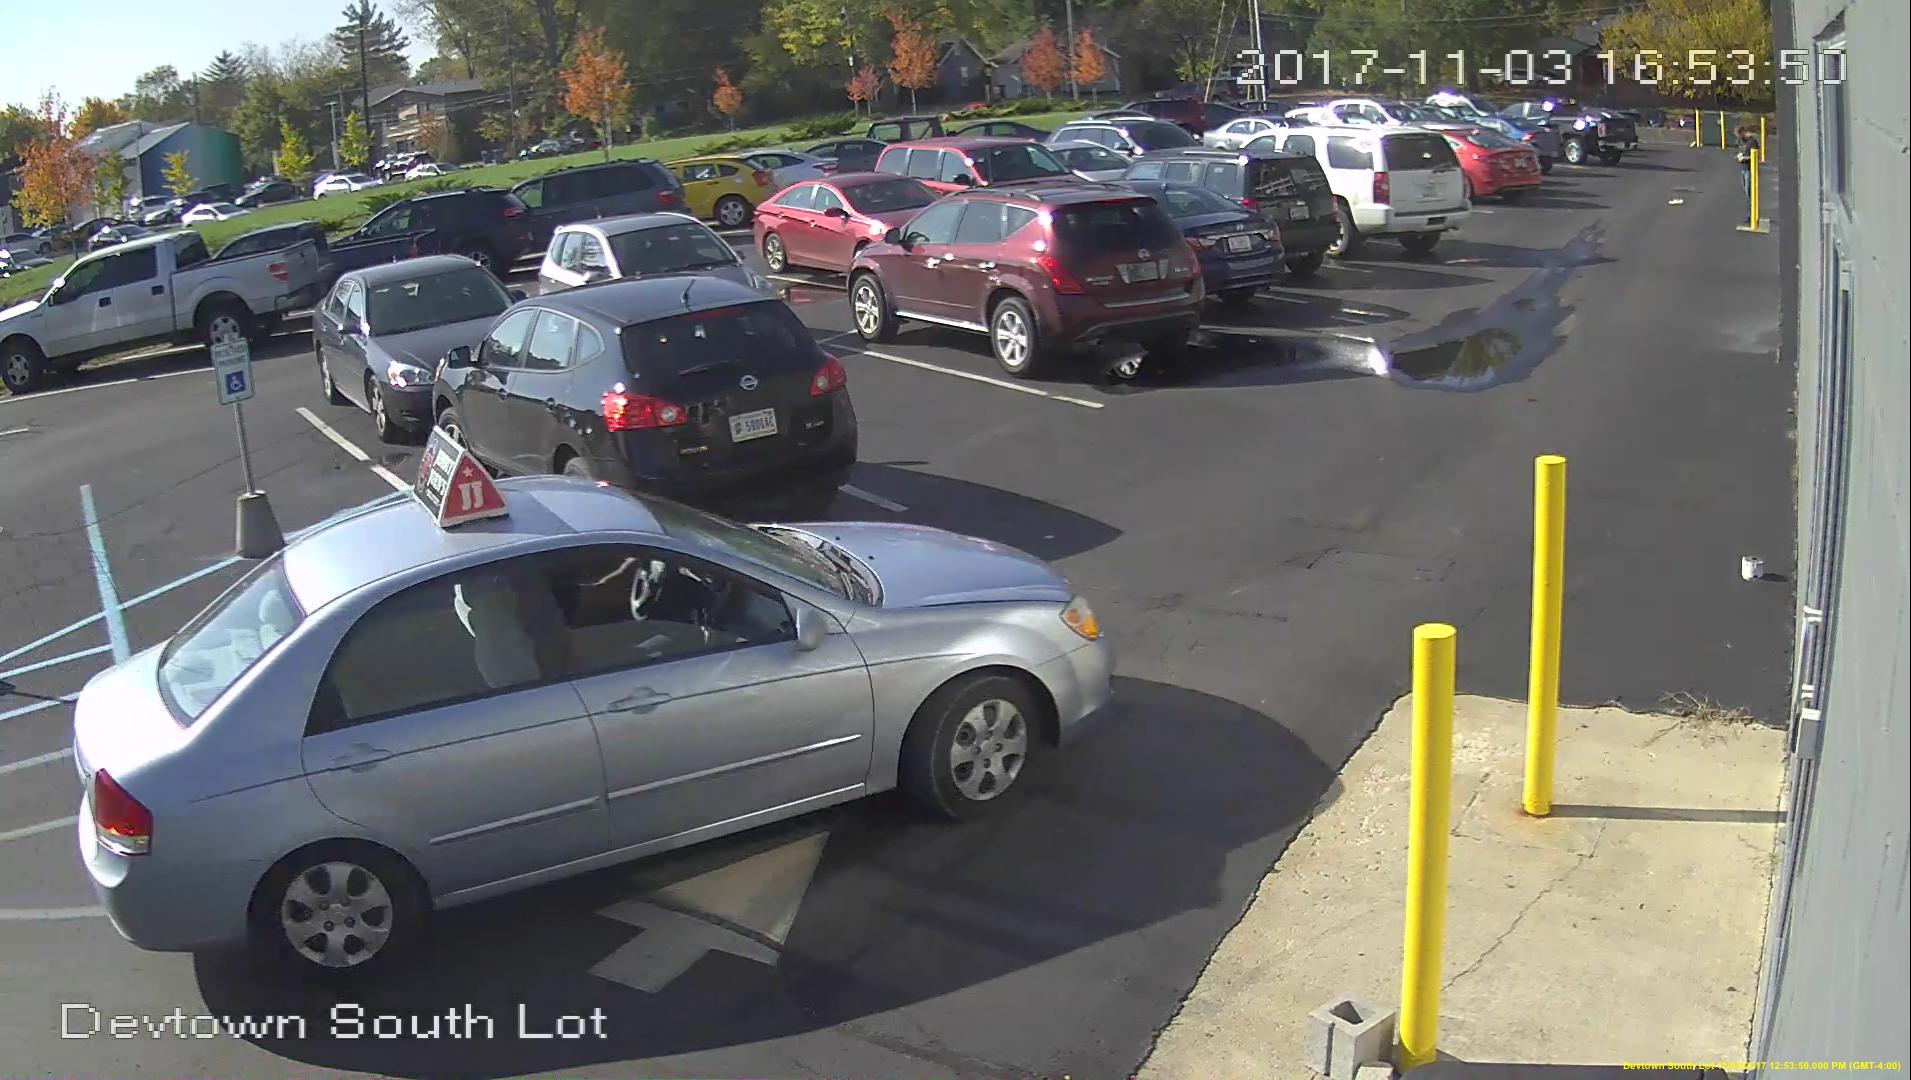jimmy_johns: (407, 423, 518, 534)
